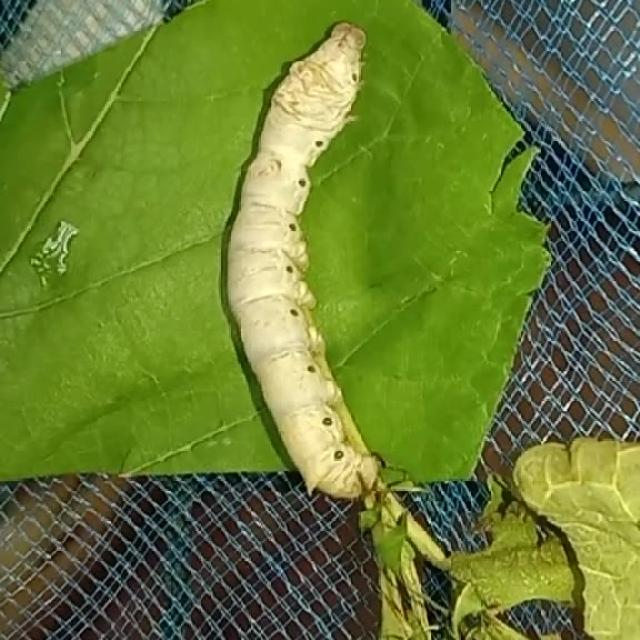Grasserie: (189, 0, 477, 521)
